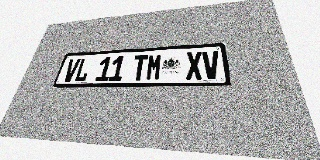1: (108, 56, 126, 81), (95, 57, 113, 81)
L: (73, 58, 92, 82)
M: (145, 54, 162, 80)
T: (131, 54, 148, 81)
V: (202, 50, 221, 79), (62, 58, 81, 82)
X: (186, 51, 203, 80)
